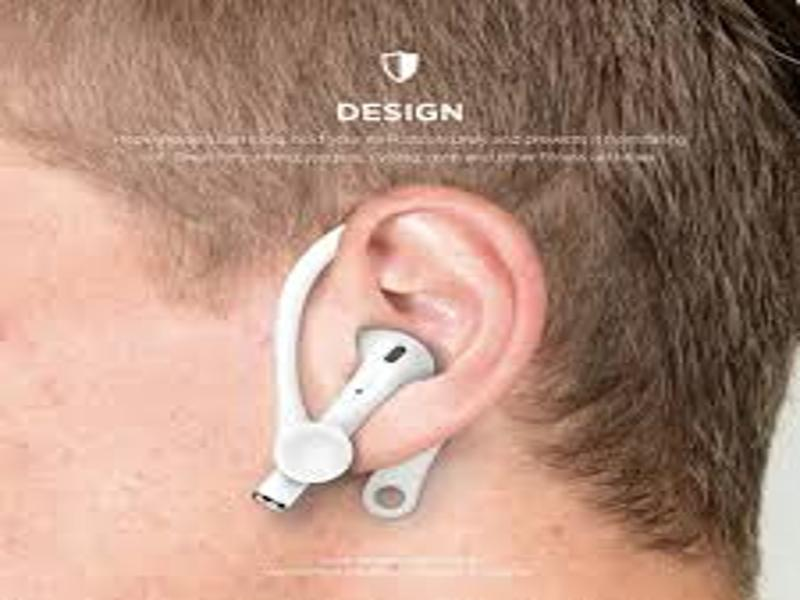headphone: (252, 322, 436, 511)
